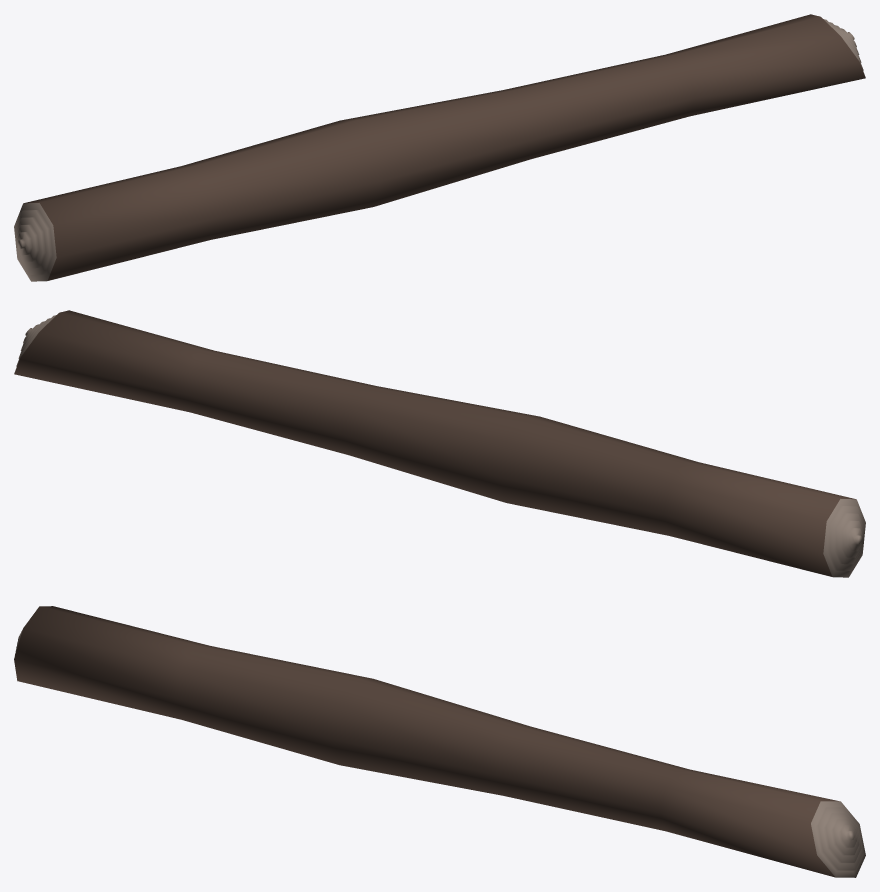
File: Msh_wooden_stick_3_Env.fbx
The picture shows the model from 3 angles, top to bottom: view 1: azimuth 30°, elevation 25°; view 2: azimuth 150°, elevation 25°; view 3: azimuth 330°, elevation 25°; orthographic projection.
Parts seen in each view (by area): view 1: wooden_stick_3; view 2: wooden_stick_3; view 3: wooden_stick_3.
Part boxes in pixels (x1,y1,x2,y2): wooden_stick_3: [14, 14, 865, 281]; wooden_stick_3: [14, 310, 865, 577]; wooden_stick_3: [14, 606, 865, 877].
Size of the model in its own units: 75.03 by 7.46 by 7.46.
